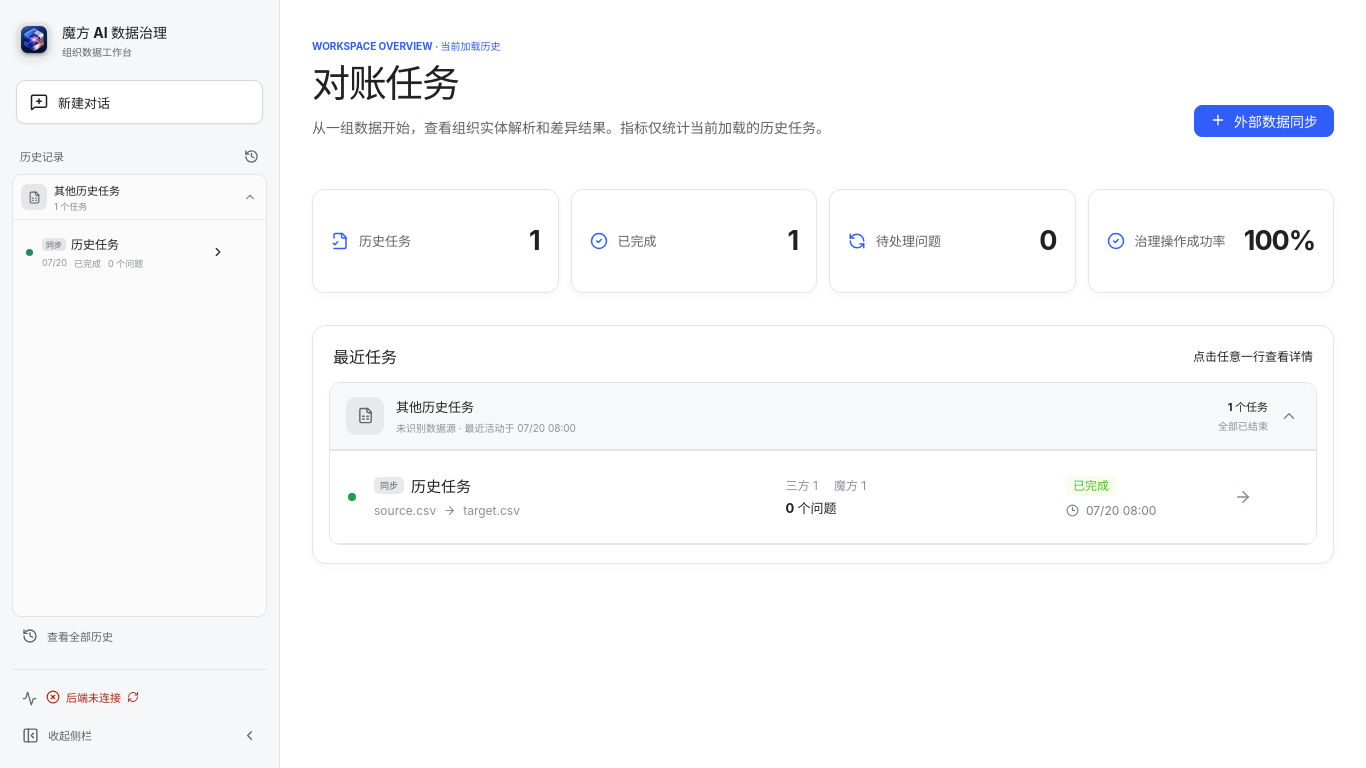
Scenario: application shell › opens a fresh conversation without changing task history
What coordinates should you click on to do the following:
click the link "新建对话"
I would click on:
 (140, 102)
Its box is [16,80,263,124].
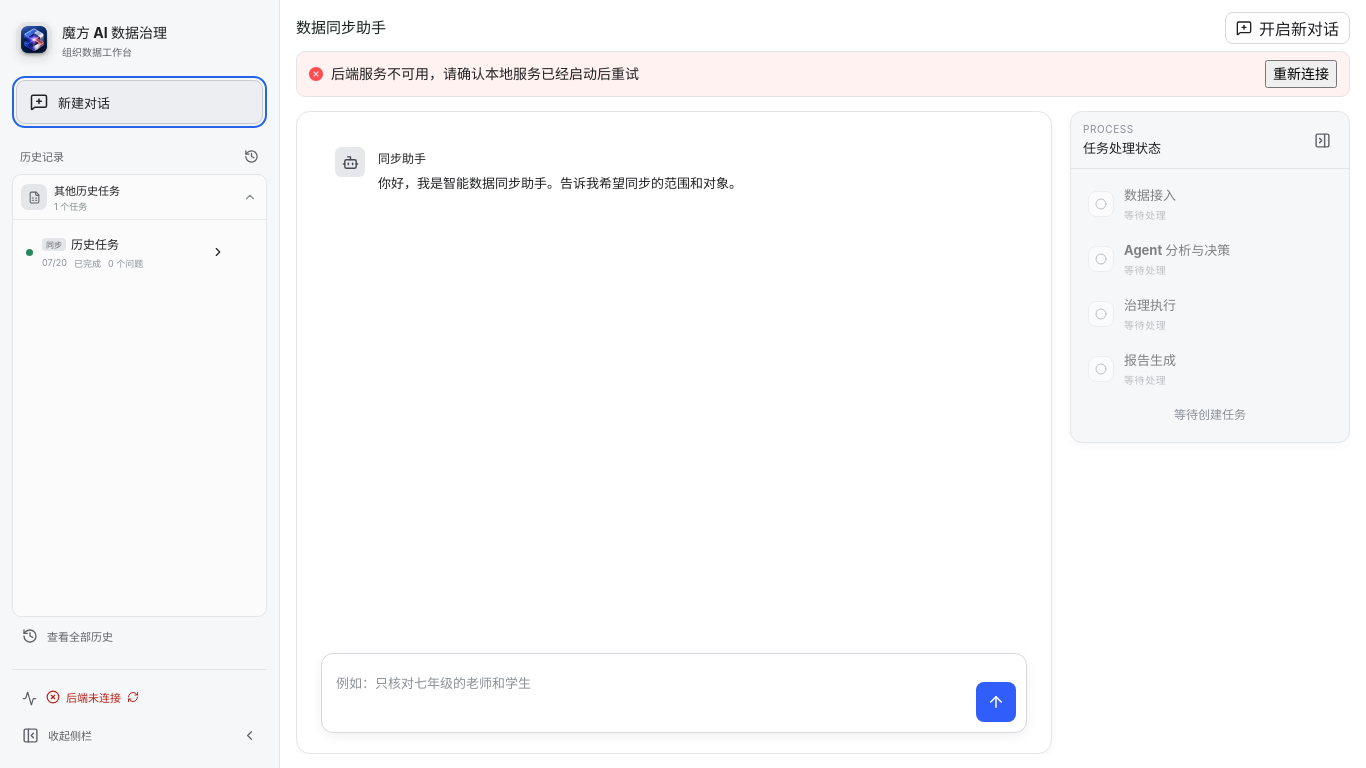
Now the element named "新建对话" is shown, box [296,111,1052,754]
